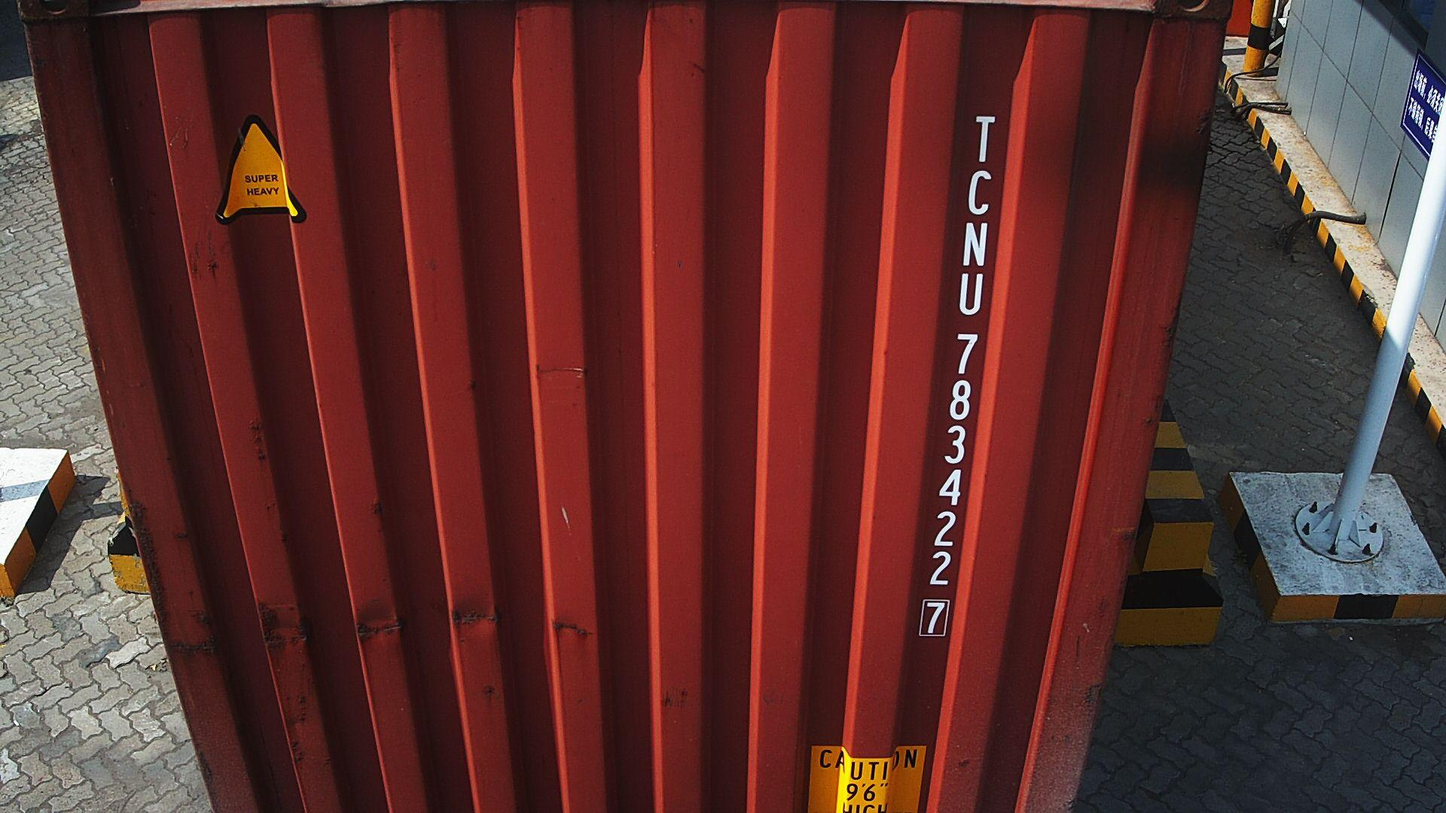container-numbers: (913, 110, 1003, 642)
